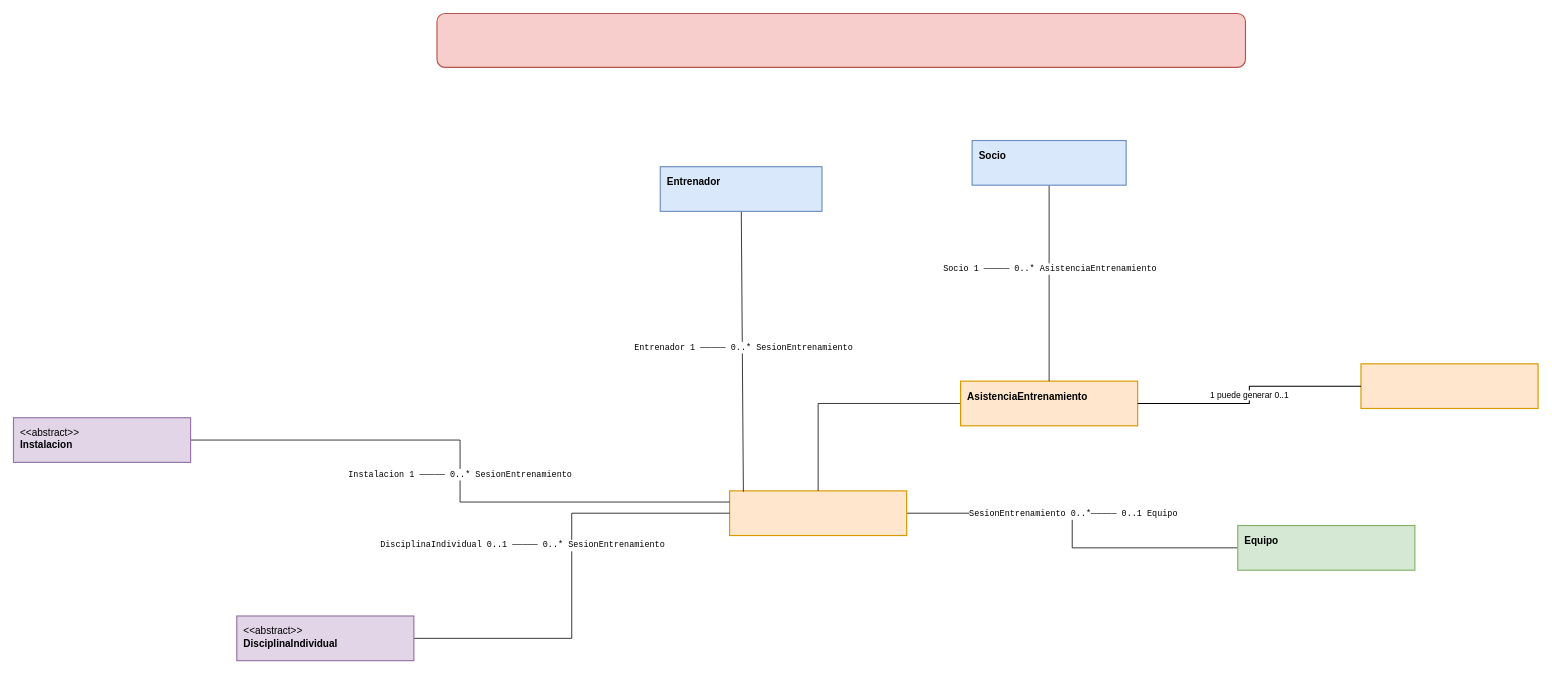
This 1552x675 diagram has some shape labels left out. The shapes that lost their labels are listed below. From the top down, each one's box as (x1, y1, x2, y2) in pixels, then its label:
(436, 13, 1246, 68): BLOQUE 6. ENTRENAMIENTOS
(1360, 363, 1538, 409): EvaluacionDesempeno
(729, 490, 907, 536): SesionEntrenamiento
